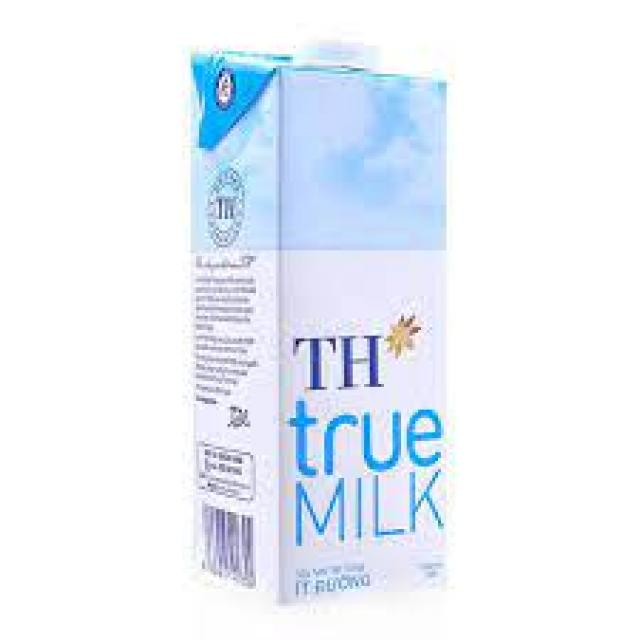non_white_jug: (165, 13, 464, 616)
